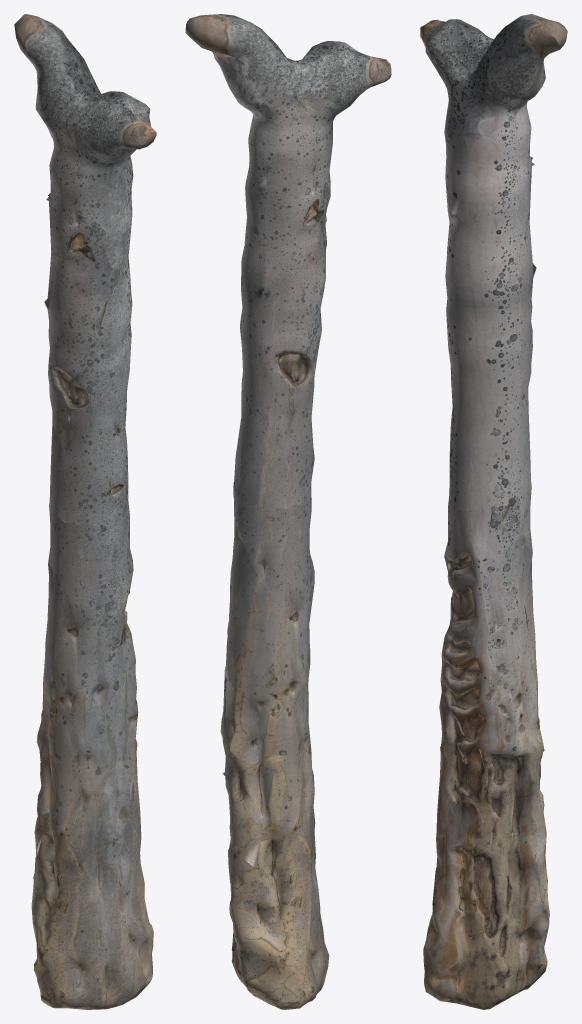
File: olu_govde.gltf
3 renders of one model, left to right at view 1: azimuth 90°, elevation 25°; view 2: azimuth 150°, elevation 25°; view 3: azimuth 270°, elevation 25°, orthographic. The views are drawn at different scales.
Parts seen in each view (by area): view 1: olu_govde; view 2: olu_govde; view 3: olu_govde.
Boxes of the visible parts, box(x1,y1,x2,y2) form: olu_govde: box(14, 14, 156, 1009); olu_govde: box(185, 14, 391, 1009); olu_govde: box(420, 14, 567, 1009).
Size of what is drawn, in the model's own units: 0.3064 by 1.99 by 0.2675.
Materials: 1 (1 with a texture image).
